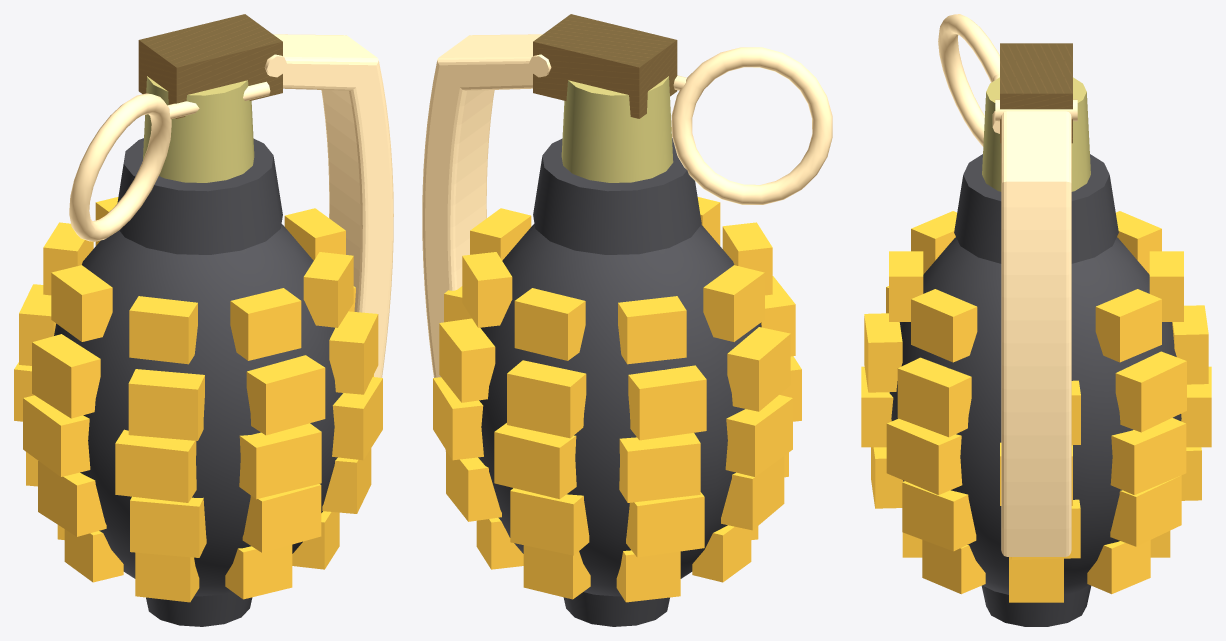
The model's file is grenade_frag (1).glb.
3 renders of one model, left to right at view 1: azimuth 30°, elevation 25°; view 2: azimuth 150°, elevation 25°; view 3: azimuth 270°, elevation 25°, orthographic. The views are drawn at different scales.
Parts seen in each view (by area): view 1: Grenade_Hull_chassis, Grenade_Hull_metalDark, Grenade_Spoon_metalChrome, Grenade_Hull_metalPrimary, Grenade_Hull_brass, Grenade_PinRing_metalChrome; view 2: Grenade_Hull_chassis, Grenade_Hull_metalDark, Grenade_Spoon_metalChrome, Grenade_Hull_brass, Grenade_PinRing_metalChrome, Grenade_Hull_metalPrimary; view 3: Grenade_Hull_chassis, Grenade_Hull_metalDark, Grenade_Spoon_metalChrome, Grenade_Hull_metalPrimary, Grenade_PinRing_metalChrome, Grenade_Hull_brass.
Boxes of the visible parts, bbox=[...] form: Grenade_Hull_chassis: bbox=[14, 197, 382, 602]; Grenade_Hull_metalDark: bbox=[54, 138, 342, 626]; Grenade_Spoon_metalChrome: bbox=[273, 34, 393, 377]; Grenade_Hull_metalPrimary: bbox=[138, 14, 282, 118]; Grenade_Hull_brass: bbox=[143, 76, 254, 182]; Grenade_PinRing_metalChrome: bbox=[69, 81, 270, 241]; Grenade_Hull_chassis: bbox=[433, 197, 801, 602]; Grenade_Hull_metalDark: bbox=[478, 138, 761, 626]; Grenade_Spoon_metalChrome: bbox=[422, 34, 542, 451]; Grenade_Hull_brass: bbox=[561, 76, 673, 182]; Grenade_PinRing_metalChrome: bbox=[671, 47, 832, 204]; Grenade_Hull_metalPrimary: bbox=[533, 14, 677, 118]; Grenade_Hull_chassis: bbox=[861, 211, 1211, 602]; Grenade_Hull_metalDark: bbox=[889, 154, 1181, 626]; Grenade_Spoon_metalChrome: bbox=[1001, 111, 1071, 556]; Grenade_Hull_metalPrimary: bbox=[1000, 43, 1072, 143]; Grenade_PinRing_metalChrome: bbox=[938, 14, 999, 146]; Grenade_Hull_brass: bbox=[982, 77, 1090, 191].
Bounding box in the file's own units: 0.0854 × 0.131 × 0.0765.
Materials: 5 (1 with a texture image).
